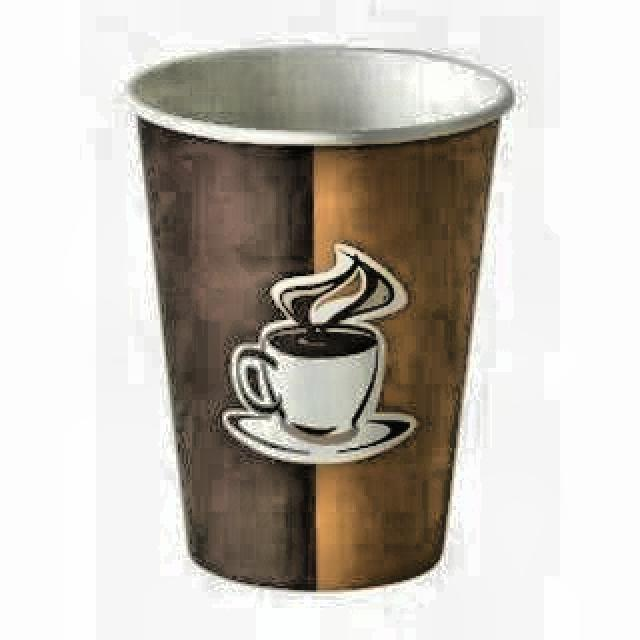Cup: (126, 34, 521, 608)
